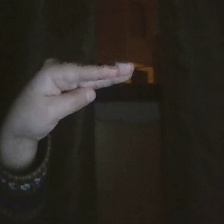H: (7, 52, 141, 150)
